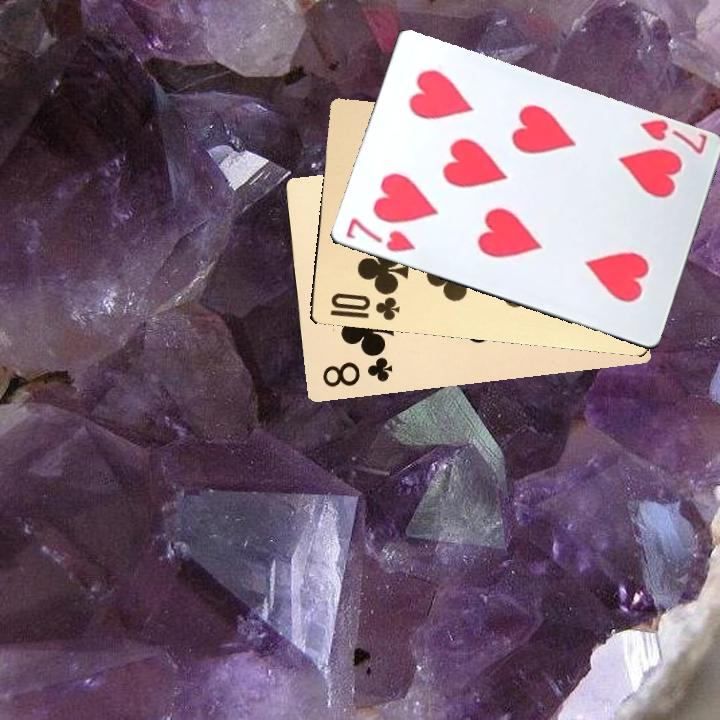10c: (326, 288, 403, 323)
7h: (342, 214, 419, 255), (635, 116, 710, 157)
8c: (319, 350, 396, 390)
